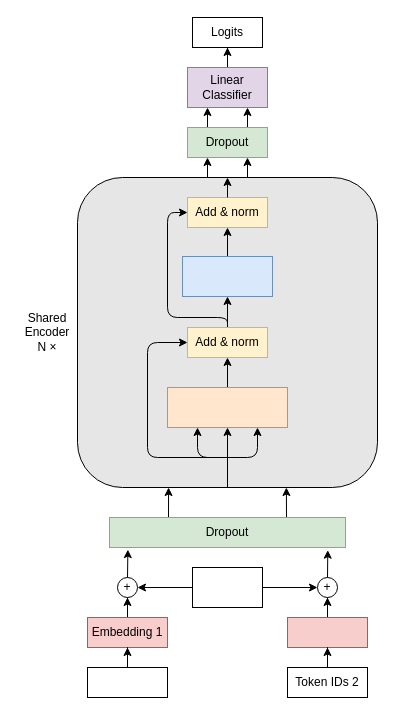
Image size: 395x715. Some labels were removed from this diagram. Each missing label, with the box of its shape:
Embedding 2: (286, 616, 368, 648)
Multi-head Attention: (166, 386, 288, 428)
Positional Encoding: (192, 566, 262, 608)
Positionwise FFN: (182, 256, 272, 296)
Token IDs 1: (86, 666, 168, 698)
